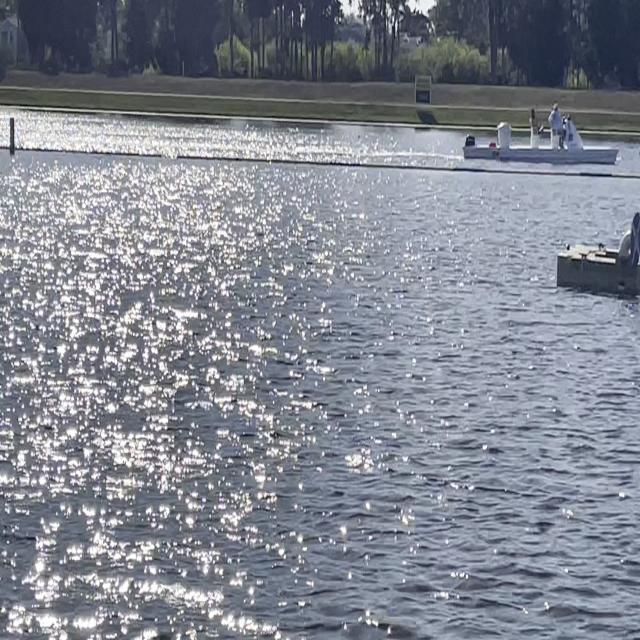buoy: (556, 212, 640, 291)
